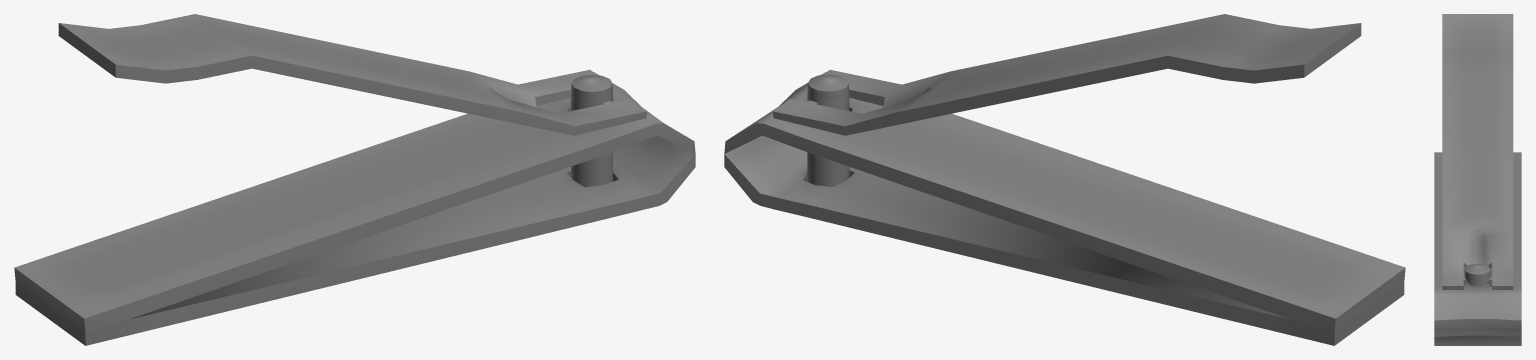
The model's file is Clippers.fbx.
The picture shows the model from 3 angles, left to right: view 1: azimuth 30°, elevation 25°; view 2: azimuth 150°, elevation 25°; view 3: azimuth 270°, elevation 25°; orthographic projection. The views are drawn at different scales.
Parts seen in each view (by area): view 1: clippers; view 2: clippers; view 3: clippers.
Boxes of the visible parts, <box> form: clippers: <box>14,14,695,345</box>; clippers: <box>724,14,1405,345</box>; clippers: <box>1434,14,1521,345</box>.
Size of the model in its own units: 1.51 by 0.6439 by 0.3005.
Materials: 1 (1 with a texture image).
